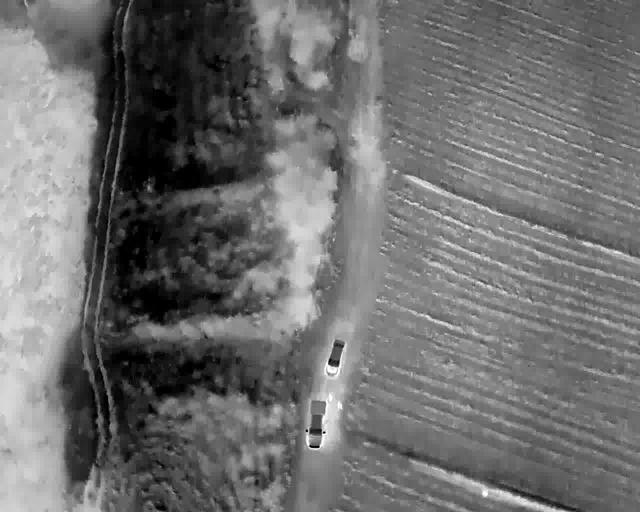car: (306, 399, 325, 448), (328, 337, 343, 377)
person: (337, 400, 343, 410), (327, 393, 333, 401), (482, 489, 488, 497)
